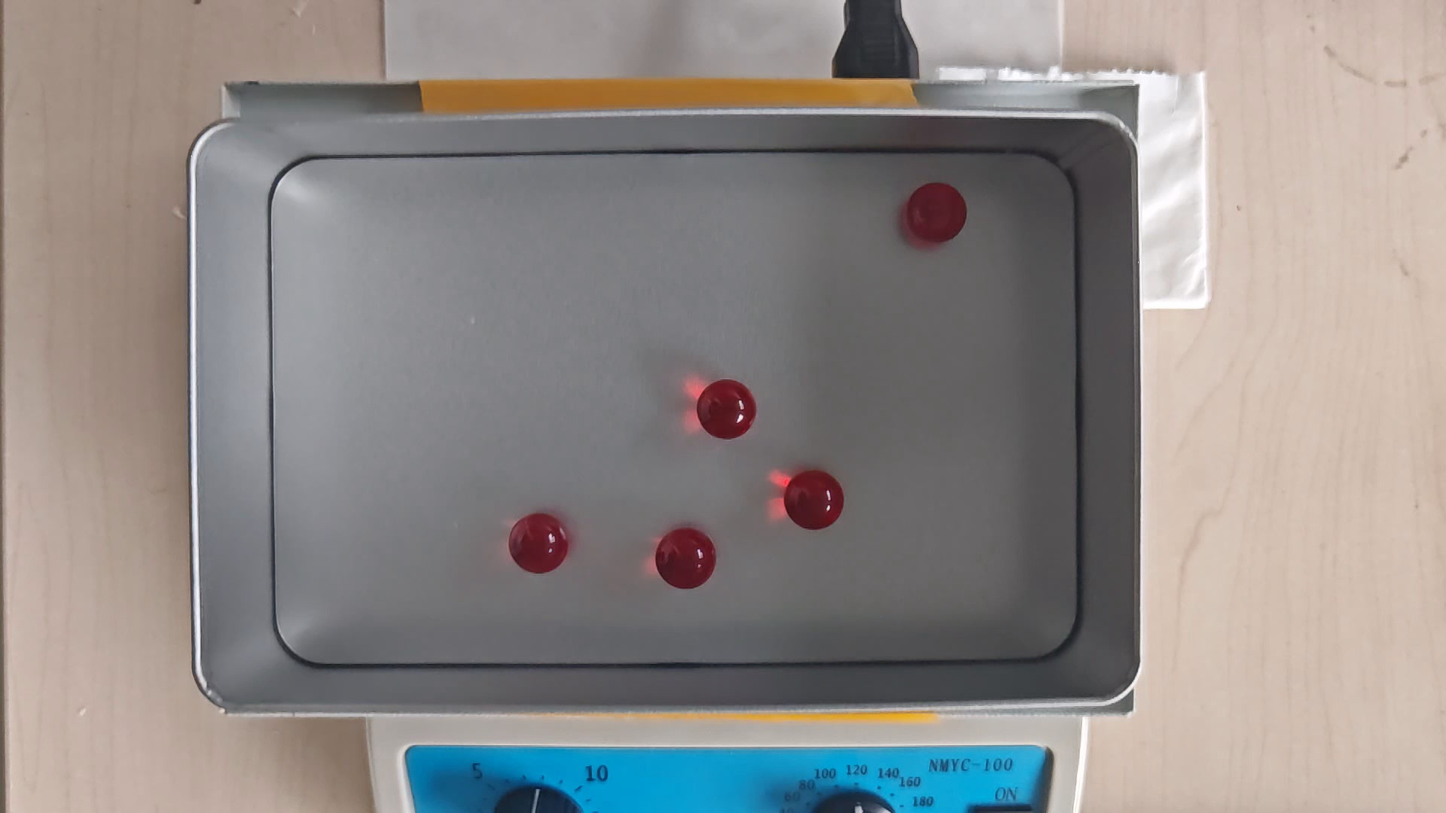ball: (697, 379, 758, 444), (508, 512, 569, 573), (905, 182, 966, 243), (783, 469, 843, 529), (657, 528, 716, 589)
container: (271, 147, 1073, 669)
